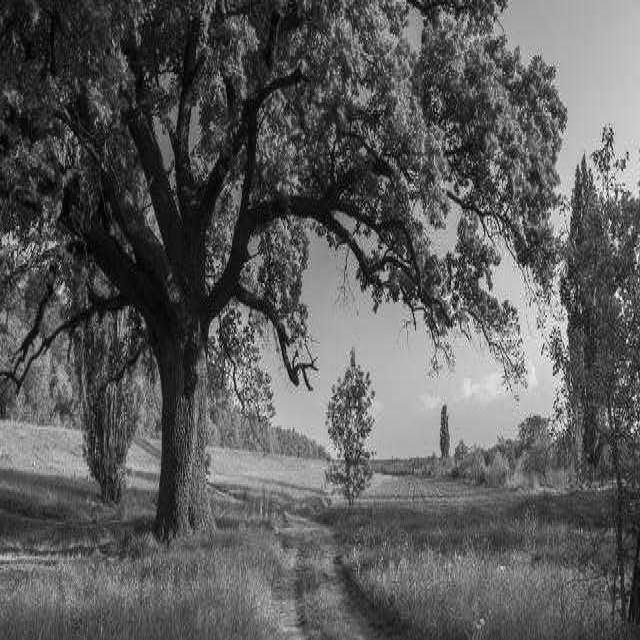Tree: (0, 2, 565, 539), (549, 128, 640, 628), (326, 349, 375, 504)
